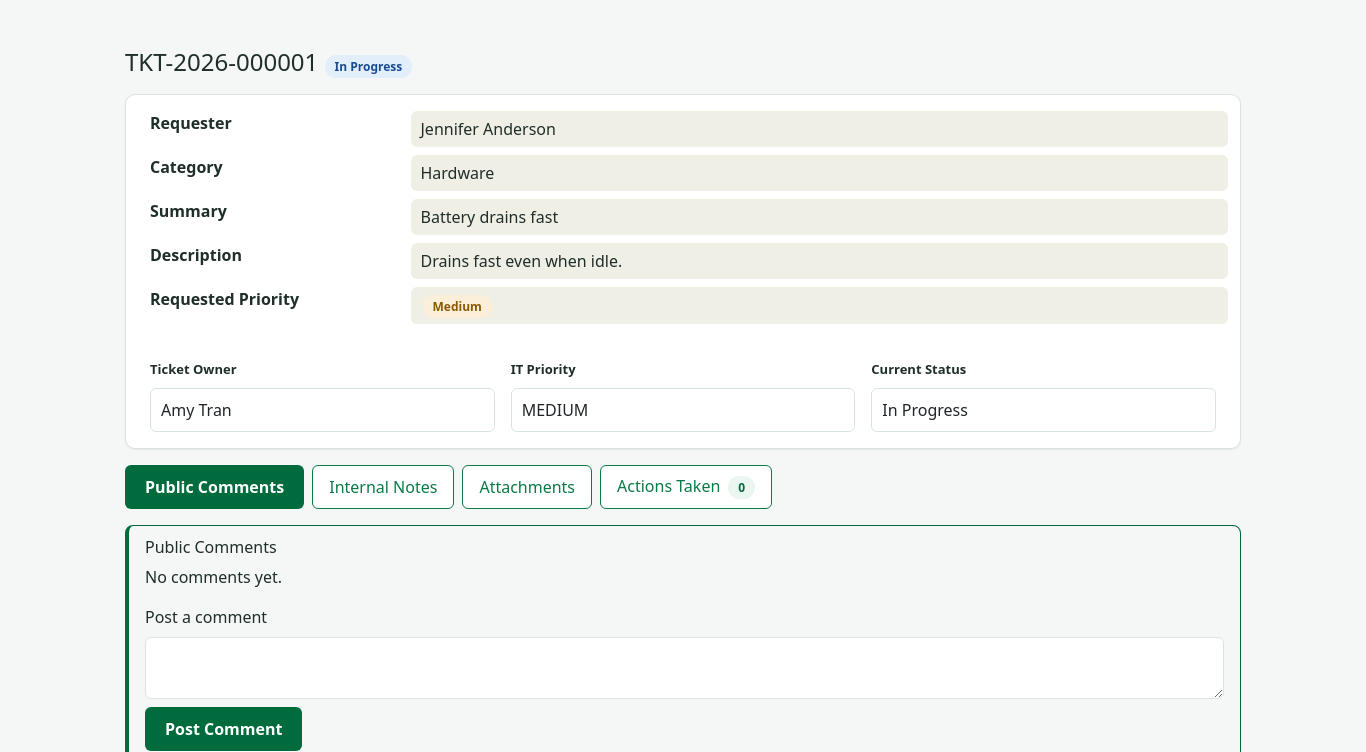
it: Ticket workflow feedback (UI-02) › an invalid-transition 409 shows the server message and reverts
Expected: the heading "TKT-2026-000001 In Progress" is shown, [125,45,412,78]
Step 1. Select "Waiting for Requester" in the dropdown labelled "Current Status" → (1044, 410), box [871,388,1216,432]
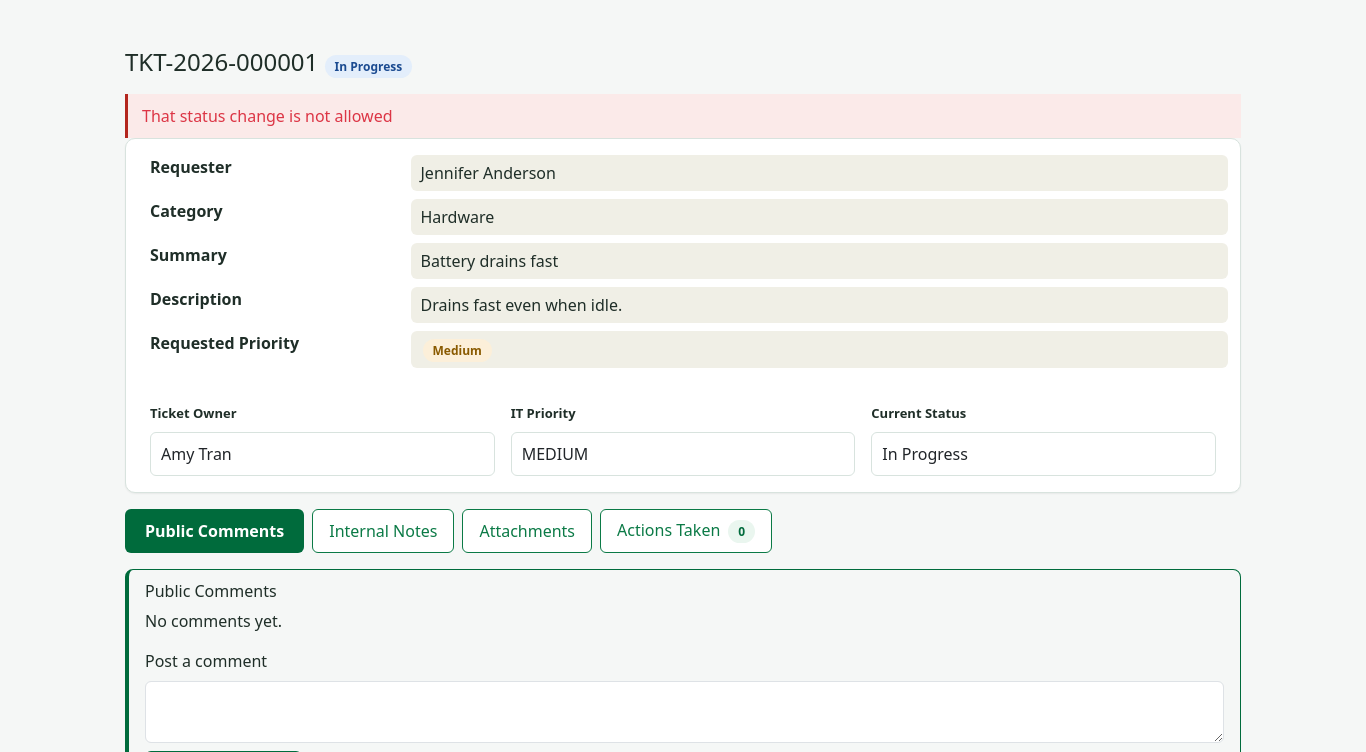
Expected: the text "That status change is not allowed" is shown, [142,105,392,127]
